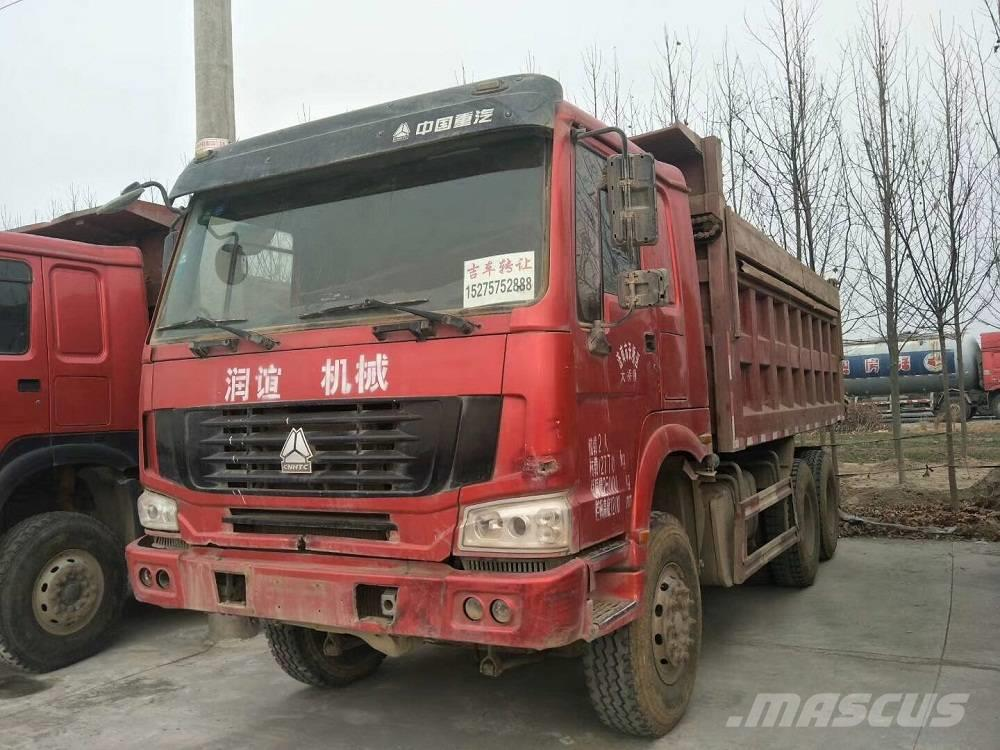truck: (134, 83, 846, 718)
